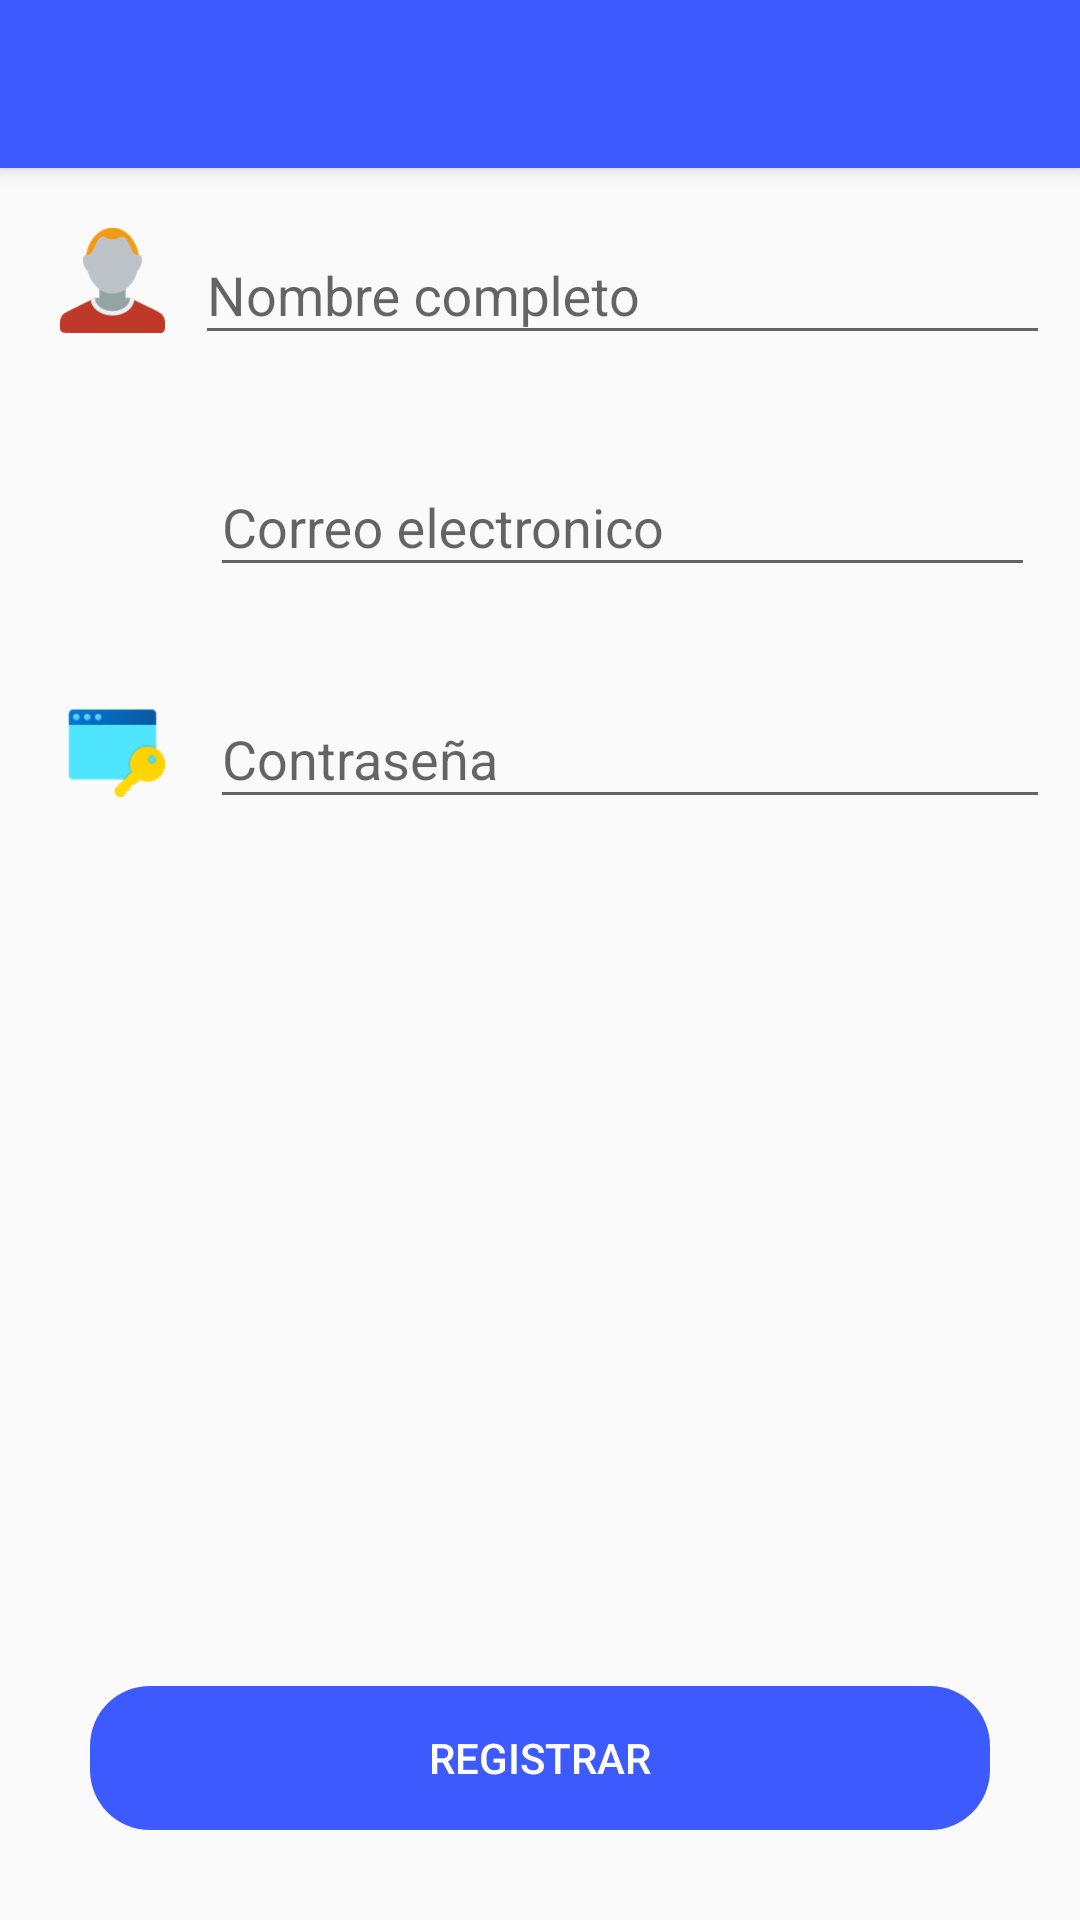

Named icons in this screenshot (1080*1920) and their centers, (x,y):
password: (116,753)
user: (112,280)
